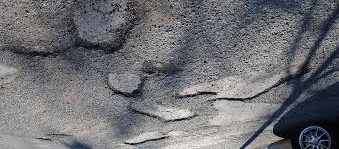pothole: (173, 64, 314, 104), (70, 0, 135, 52), (6, 3, 66, 56), (100, 63, 147, 102), (123, 103, 201, 121), (121, 128, 166, 148), (147, 57, 180, 80)
